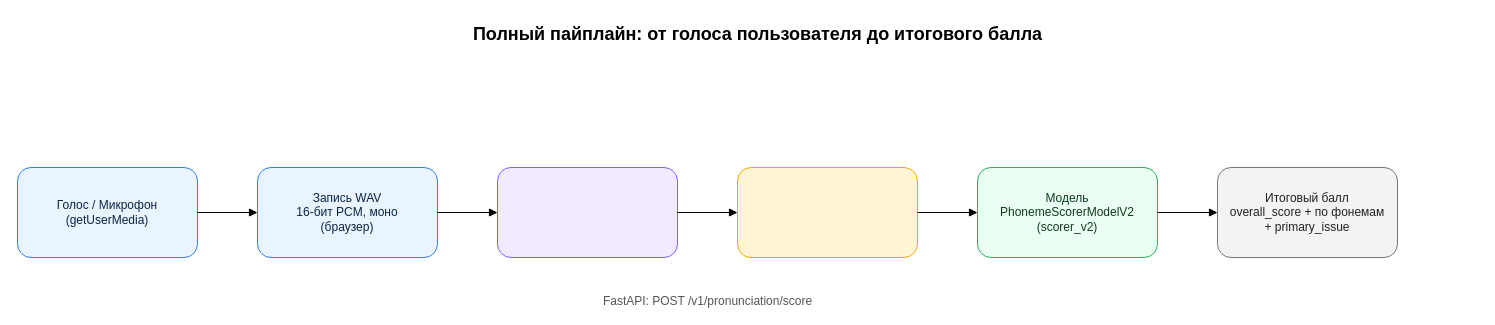
Some shapes in this 1495 by 325 pixel diagram are drawn without their labels. Each missing label, with the centre of its shape:
"Препроцессинг моно, 16 кГц, нормализация, обрезка" belongs at point (587, 212).
"Признаки HuBERT эмбеддинги + MFA выравнивание" belongs at point (827, 212).
